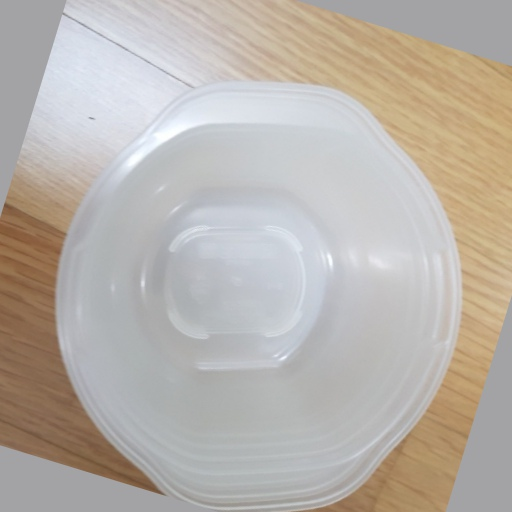Plastic_5: (54, 82, 467, 512)
